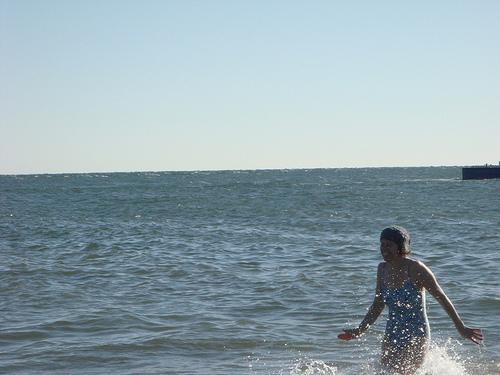human: (338, 227, 484, 374)
